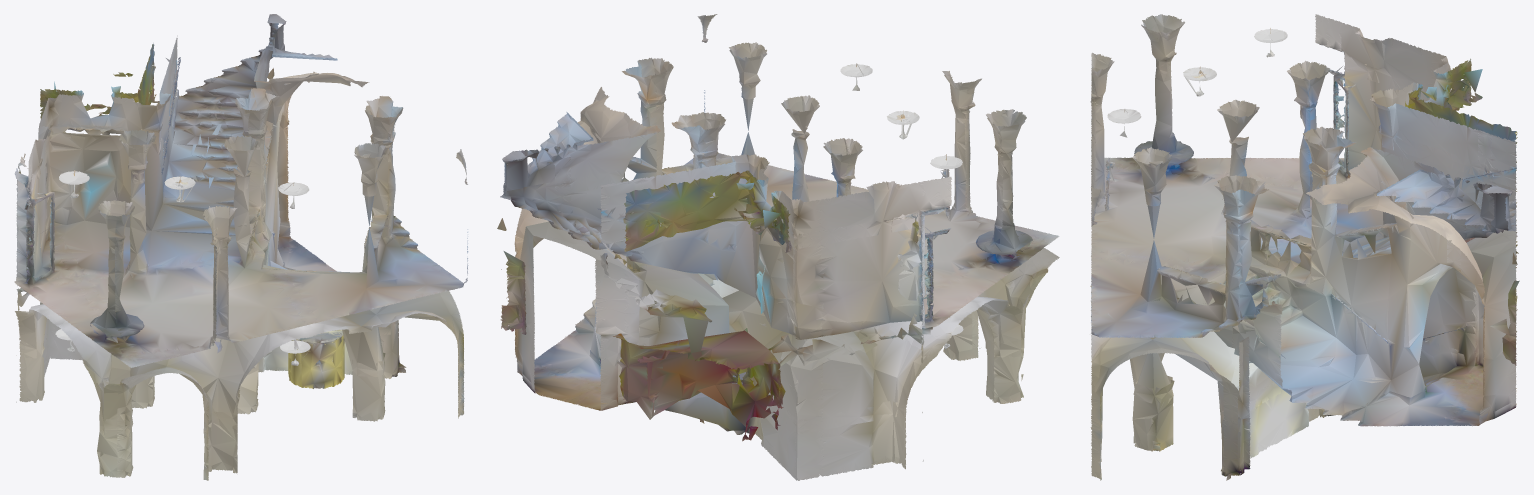
The picture shows the model from 3 angles, left to right: view 1: azimuth 30°, elevation 25°; view 2: azimuth 150°, elevation 25°; view 3: azimuth 270°, elevation 25°; orthographic projection. The views are drawn at different scales.
Size of the model in its own units: 10.08 by 7.5 by 10.17.
